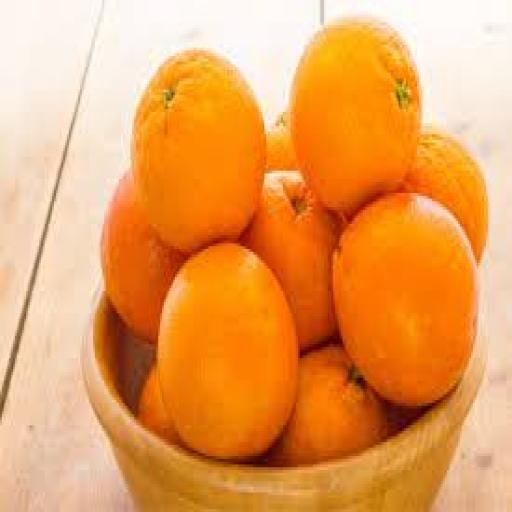orange: (334, 194, 478, 405), (159, 244, 297, 458), (133, 51, 266, 251), (291, 17, 420, 215), (243, 171, 340, 349), (269, 345, 387, 467), (101, 174, 184, 341), (405, 126, 487, 262), (138, 367, 178, 444), (267, 112, 297, 170), (388, 403, 424, 433)
